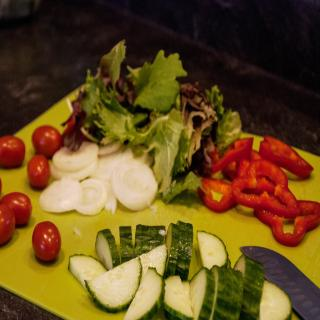tomato: (28, 224, 60, 265), (1, 192, 32, 225), (31, 125, 61, 155), (0, 136, 28, 167), (26, 154, 50, 189), (0, 207, 16, 244)
